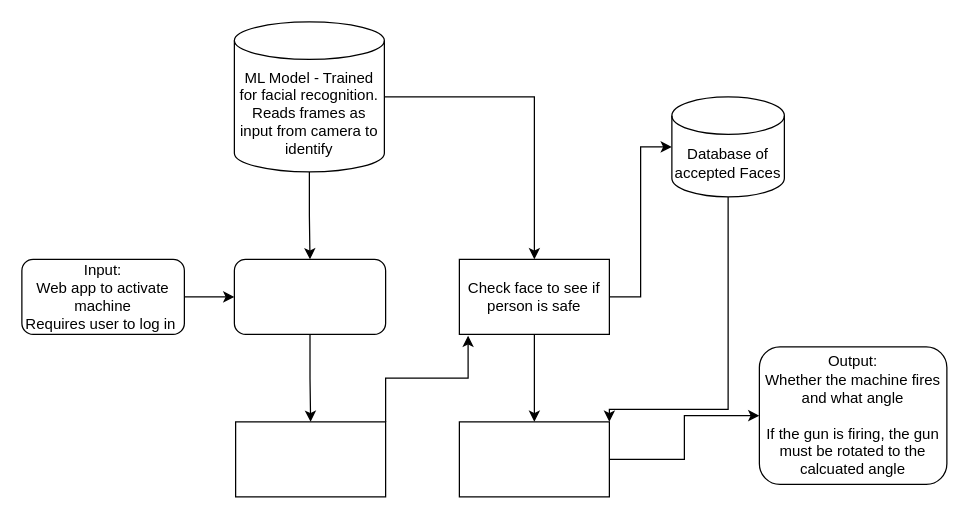
The diagram is 969 pixels wide and 519 high, and some of its shapes have lost their labels. Here are the shapes that lost their labels. From the top down, the centre of each, then its label:
(x=309, y=296): Input: Face Detected via machine learning.
(x=310, y=459): Location of face in comparison to camera calculated.
(x=533, y=459): If unsafe person, then calculate firing angle
